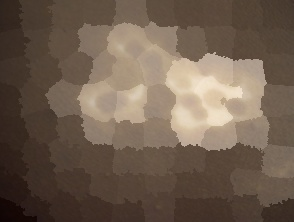vitiligo: (26, 0, 294, 211)
